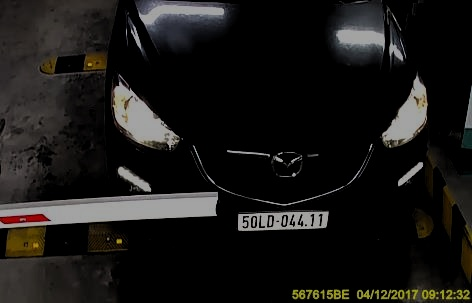plate: (237, 204, 333, 237)
